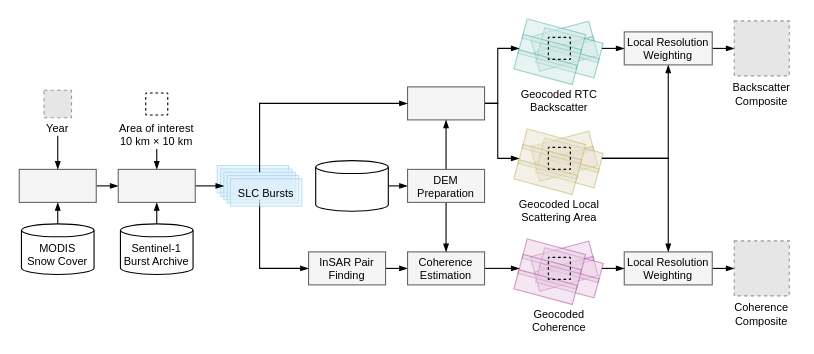
Some shapes in this 814 by 354 pixel diagram are drawn without their labels. Grey dashed boxes stand in for pictures. Here are the shapes that lost their labels. From the top down, the centre of each, then its label:
(x=445, y=103): Backscatter Processing
(x=57, y=185): Window Determination
(x=156, y=185): Burst Download
(x=351, y=185): Copernicus GLO-30 DEM
